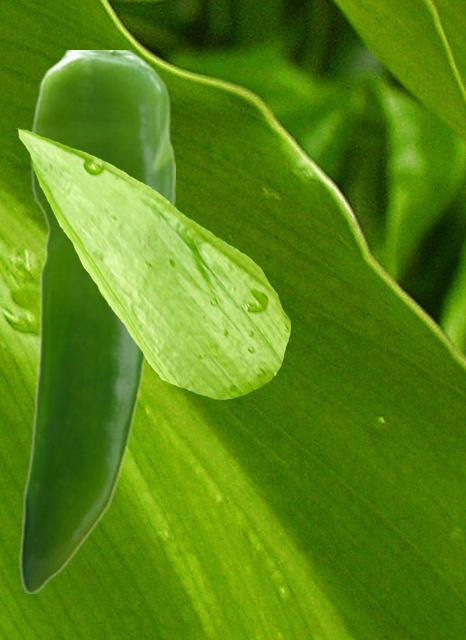green_chili: (19, 50, 174, 592)
